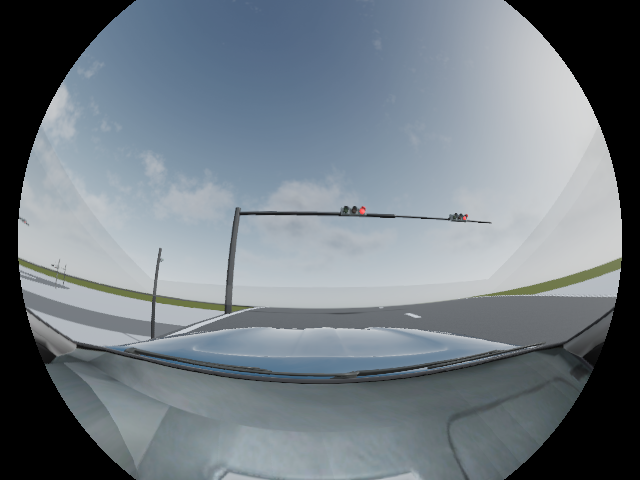Red Light: (340, 206, 368, 216), (446, 213, 469, 221)
